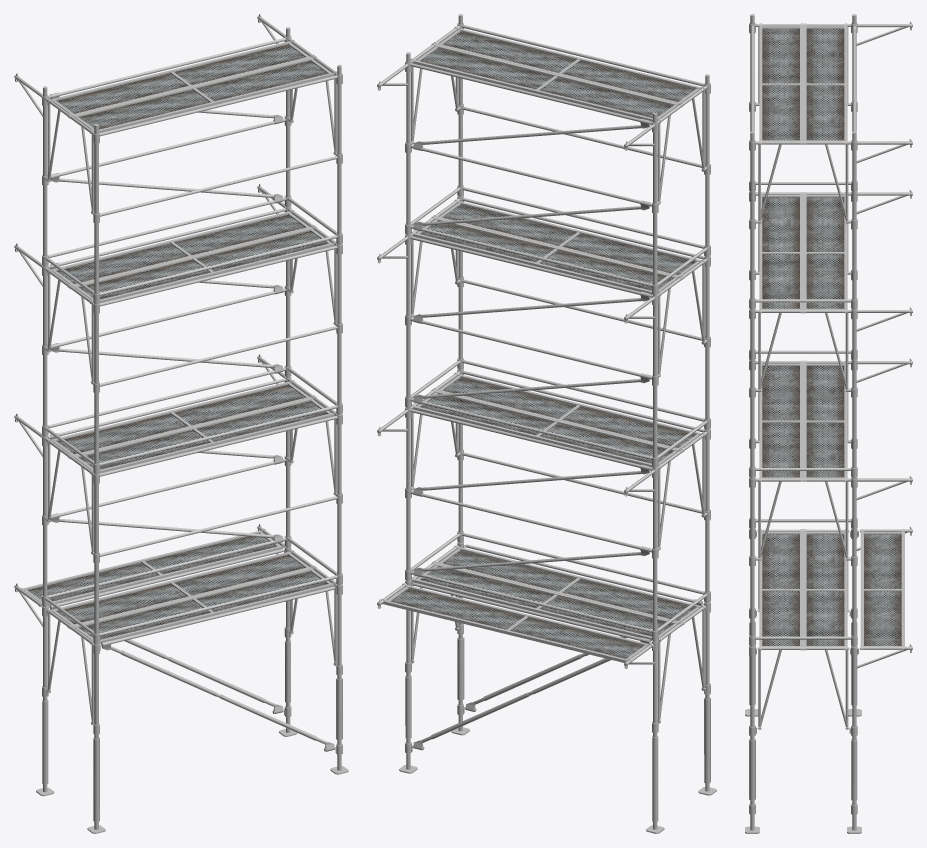
File: Scaffoldinga_01.fbx
3 renders of one model, left to right at view 1: azimuth 30°, elevation 25°; view 2: azimuth 150°, elevation 25°; view 3: azimuth 270°, elevation 25°, orthographic. The views are drawn at different scales.
Parts seen in each view (by area): view 1: LODGroup_1_MainMesh_1_SubMesh_2, LODGroup_1_MainMesh_1_SubMesh_1, LODGroup_1_MainMesh_4_SubMesh_1, LODGroup_1_MainMesh_2_SubMesh_1, LODGroup_1_MainMesh_3_SubMesh_1; view 2: LODGroup_1_MainMesh_1_SubMesh_2, LODGroup_1_MainMesh_1_SubMesh_1, LODGroup_1_MainMesh_4_SubMesh_1, LODGroup_1_MainMesh_2_SubMesh_1, LODGroup_1_MainMesh_3_SubMesh_1; view 3: LODGroup_1_MainMesh_1_SubMesh_1, LODGroup_1_MainMesh_1_SubMesh_2, LODGroup_1_MainMesh_4_SubMesh_1, LODGroup_1_MainMesh_2_SubMesh_1, LODGroup_1_MainMesh_3_SubMesh_1.
Boxes of the visible parts, x1=… form: LODGroup_1_MainMesh_1_SubMesh_2: x1=14, y1=14, x2=348, y2=833; LODGroup_1_MainMesh_1_SubMesh_1: x1=28, y1=44, x2=327, y2=639; LODGroup_1_MainMesh_4_SubMesh_1: x1=45, y1=75, x2=337, y2=295; LODGroup_1_MainMesh_2_SubMesh_1: x1=45, y1=415, x2=337, y2=636; LODGroup_1_MainMesh_3_SubMesh_1: x1=45, y1=245, x2=337, y2=465; LODGroup_1_MainMesh_1_SubMesh_2: x1=377, y1=14, x2=716, y2=833; LODGroup_1_MainMesh_1_SubMesh_1: x1=391, y1=31, x2=695, y2=658; LODGroup_1_MainMesh_4_SubMesh_1: x1=410, y1=62, x2=707, y2=285; LODGroup_1_MainMesh_2_SubMesh_1: x1=410, y1=408, x2=707, y2=631; LODGroup_1_MainMesh_3_SubMesh_1: x1=410, y1=235, x2=707, y2=458; LODGroup_1_MainMesh_1_SubMesh_1: x1=762, y1=28, x2=901, y2=645; LODGroup_1_MainMesh_1_SubMesh_2: x1=745, y1=14, x2=912, y2=833; LODGroup_1_MainMesh_4_SubMesh_1: x1=755, y1=27, x2=851, y2=302; LODGroup_1_MainMesh_2_SubMesh_1: x1=755, y1=392, x2=851, y2=639; LODGroup_1_MainMesh_3_SubMesh_1: x1=755, y1=223, x2=851, y2=470.
Size of the model in its own units: 474 by 1249 by 272.
